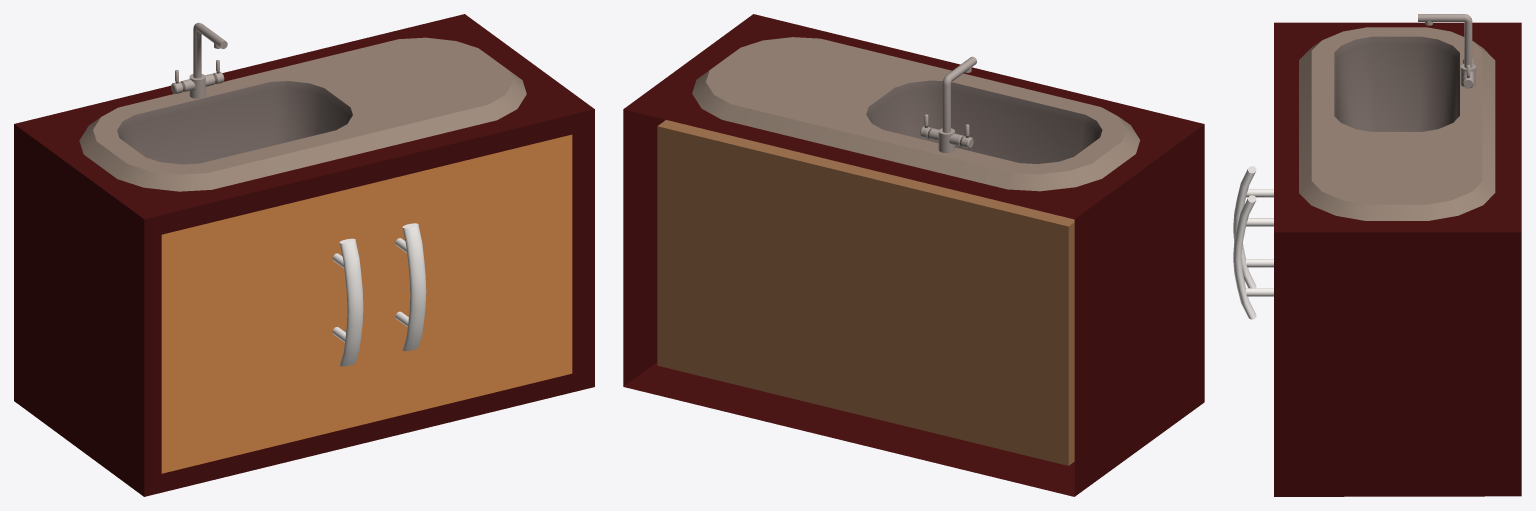
The model's file is Tap Counter.fbx.
3 views of the same model, side by side, from view 1: azimuth 30°, elevation 25°; view 2: azimuth 150°, elevation 25°; view 3: azimuth 270°, elevation 25° (orthographic). The views are drawn at different scales.
Parts seen in each view (by area): view 1: MainBody, Left Door, Right Door, Tap; view 2: MainBody, Tap; view 3: MainBody, Right Door, Left Door, Tap.
Part boxes in pixels (x1,y1,x2,y2): MainBody: [14, 14, 594, 496]; Left Door: [161, 184, 369, 473]; Right Door: [369, 134, 572, 422]; Tap: [171, 22, 227, 98]; MainBody: [623, 14, 1204, 496]; Tap: [920, 56, 976, 152]; MainBody: [1274, 22, 1521, 496]; Right Door: [1233, 195, 1273, 319]; Left Door: [1233, 166, 1273, 288]; Tap: [1418, 14, 1475, 88].
Bounding box in the file's own units: 100 × 58.2 × 76.81.
